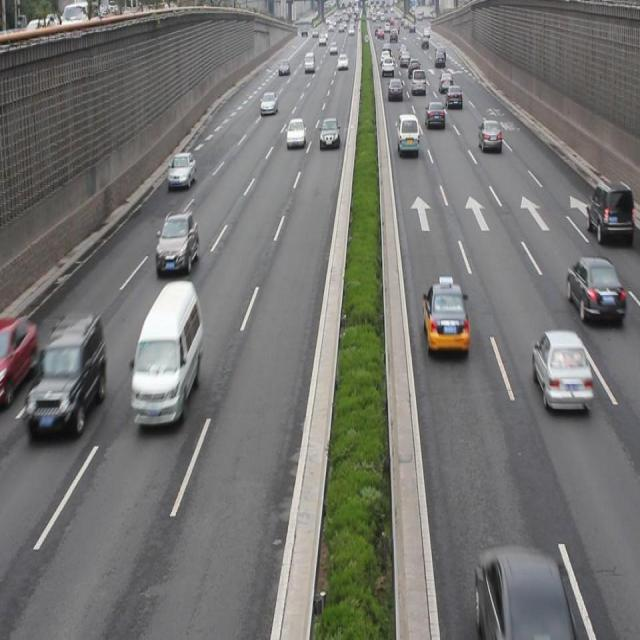car: (25, 307, 106, 437), (475, 545, 575, 640), (532, 329, 590, 411), (564, 256, 624, 326), (422, 280, 468, 356), (1, 314, 37, 401), (586, 179, 632, 246), (154, 210, 198, 276), (168, 152, 196, 188), (477, 117, 502, 153), (318, 115, 339, 149), (285, 117, 306, 150), (425, 101, 444, 129)
truck: (130, 280, 202, 428), (396, 113, 419, 155)
